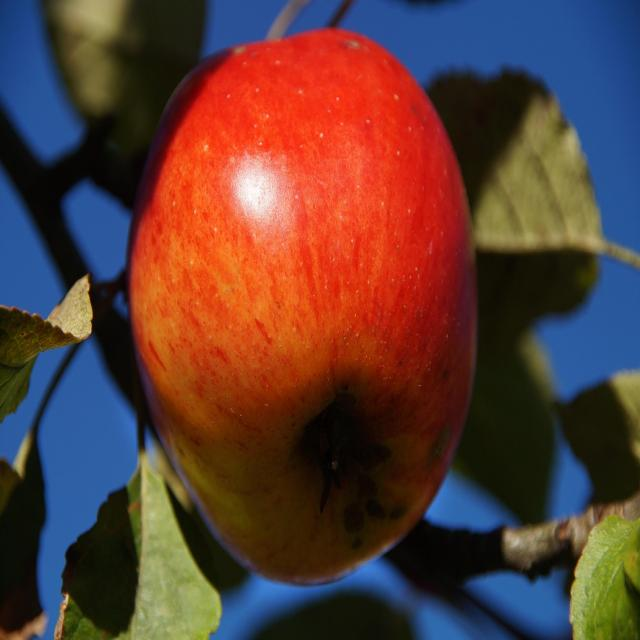apple_fruit: (113, 22, 491, 617)
